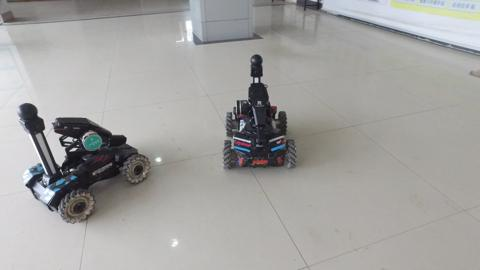chariot: (15, 94, 154, 228), (214, 52, 300, 177)
